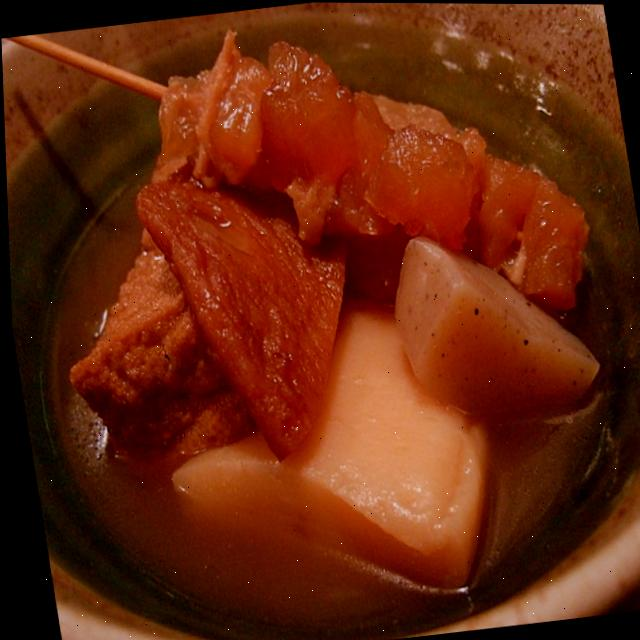汤锅炖物: (2, 0, 576, 583)
